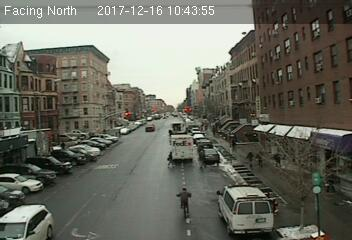bicycle: (175, 187, 194, 219)
car: (1, 202, 55, 240), (199, 149, 220, 163)
pedestrian: (255, 151, 266, 169), (246, 151, 256, 169)
police: (212, 182, 276, 235)
truck: (170, 133, 193, 161)
